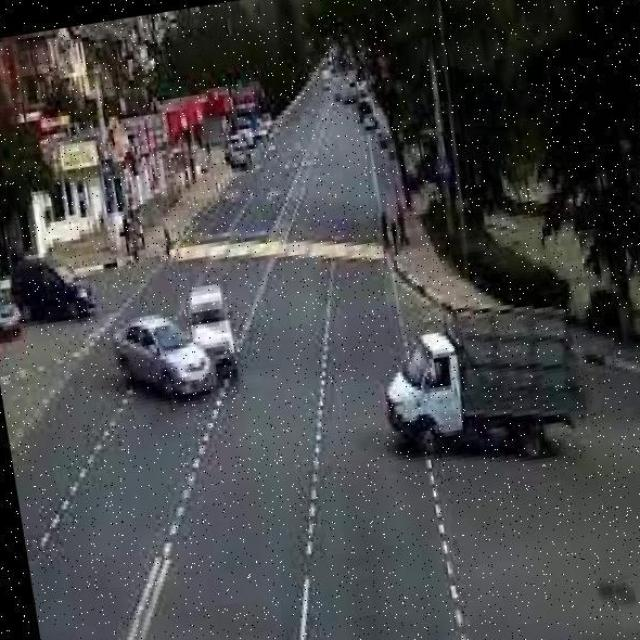accident: (101, 274, 251, 418)
